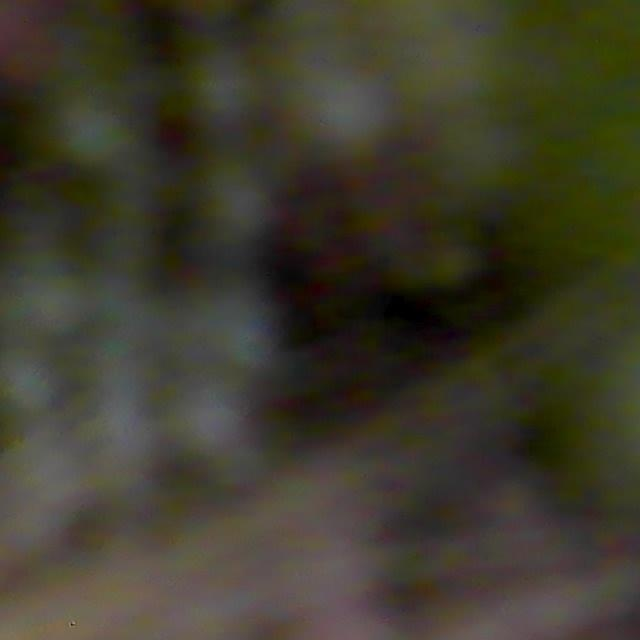SeaGrape: (295, 66, 392, 159), (185, 46, 267, 133), (52, 95, 137, 175), (199, 163, 278, 247), (0, 346, 63, 421)
